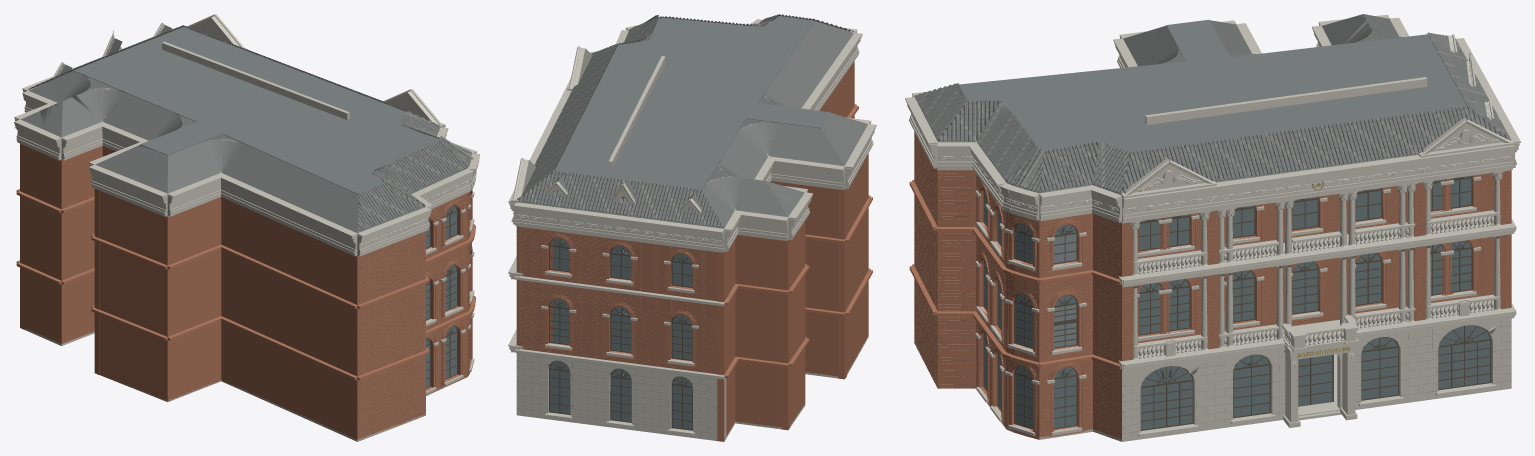
Rendered from bund09.glb.
3 views of the same model, side by side, from view 1: azimuth 30°, elevation 25°; view 2: azimuth 150°, elevation 25°; view 3: azimuth 270°, elevation 25° (orthographic). The views are drawn at different scales.
Bounding box in the file's own units: 23.03 × 16.65 × 32.41.
